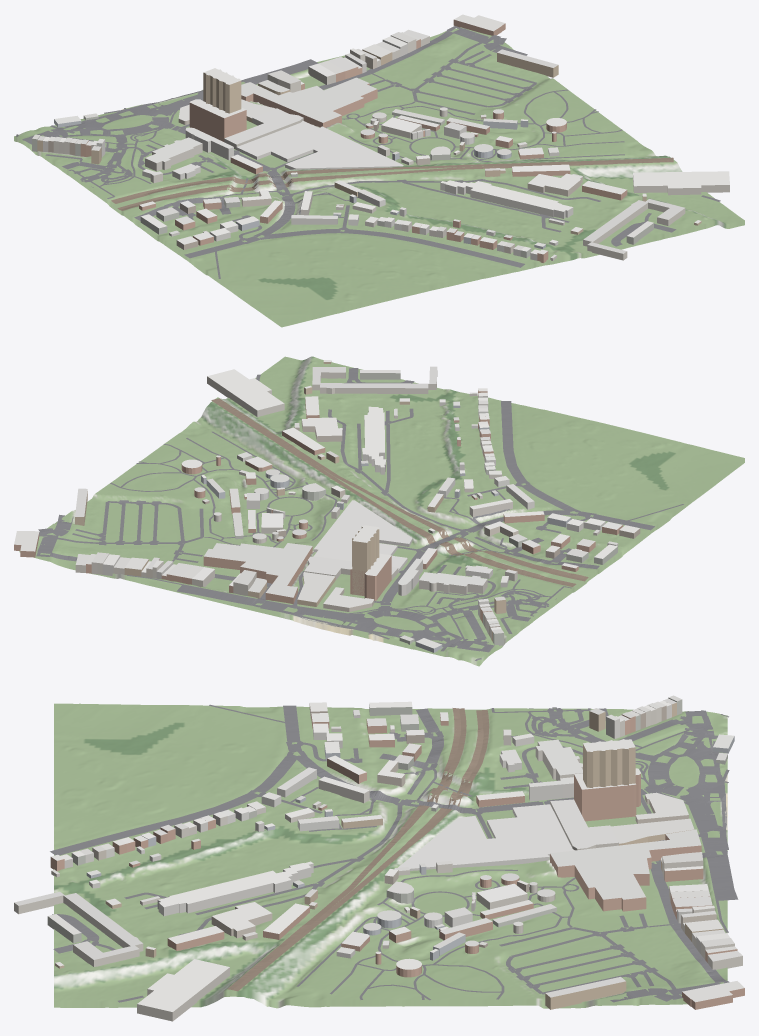
3 renders of one model, top to bottom at view 1: azimuth 30°, elevation 25°; view 2: azimuth 150°, elevation 25°; view 3: azimuth 270°, elevation 25°, orthographic. The views are drawn at different scales.
Parts seen in each view (by area): view 1: prim0, prim1, prim2, prim3; view 2: prim0, prim1, prim2, prim3; view 3: prim0, prim1, prim2, prim3.
Part boxes in pixels (bbox=[...]): prim0: bbox=[14, 27, 744, 327]; prim1: bbox=[32, 14, 729, 262]; prim2: bbox=[16, 26, 720, 278]; prim3: bbox=[111, 157, 673, 210]; prim0: bbox=[19, 356, 744, 666]; prim1: bbox=[14, 360, 640, 652]; prim2: bbox=[36, 368, 683, 660]; prim3: bbox=[211, 398, 588, 586]; prim0: bbox=[54, 703, 727, 1008]; prim1: bbox=[14, 695, 744, 1021]; prim2: bbox=[50, 704, 738, 1002]; prim3: bbox=[227, 708, 489, 991].
Size of the model in its own units: 550 by 65.57 by 556.
